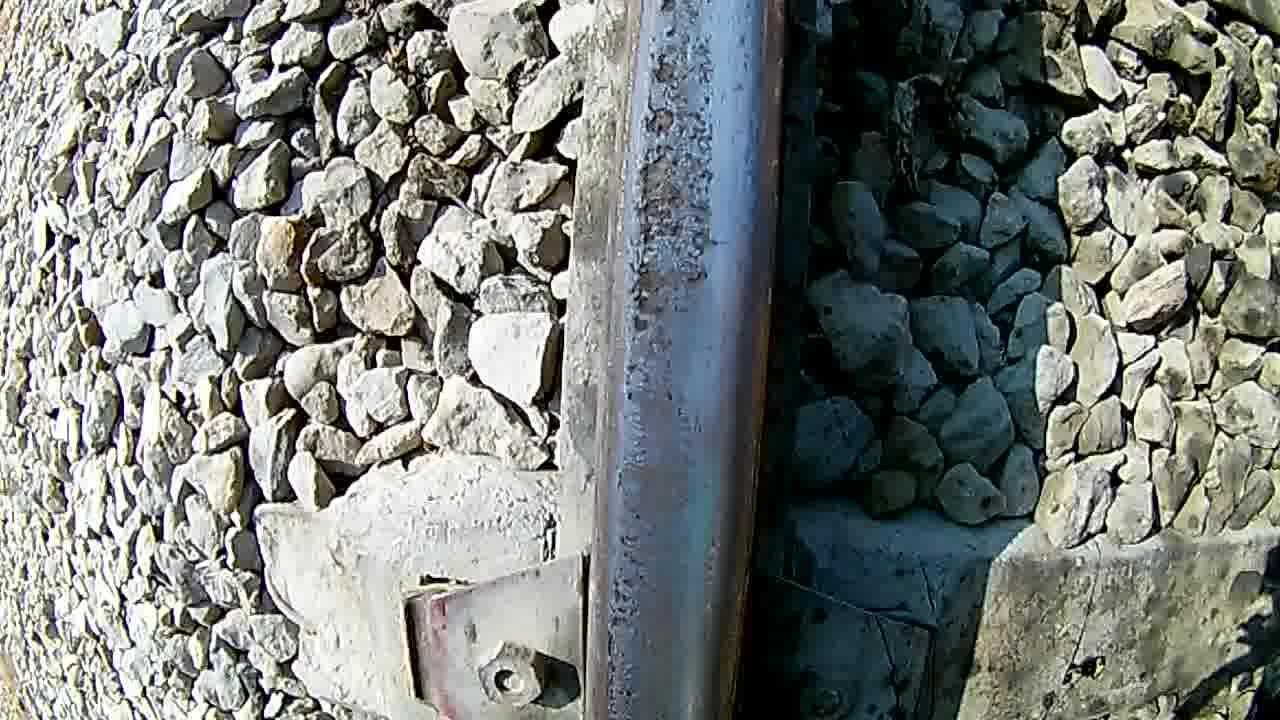crack: (597, 0, 774, 720)
